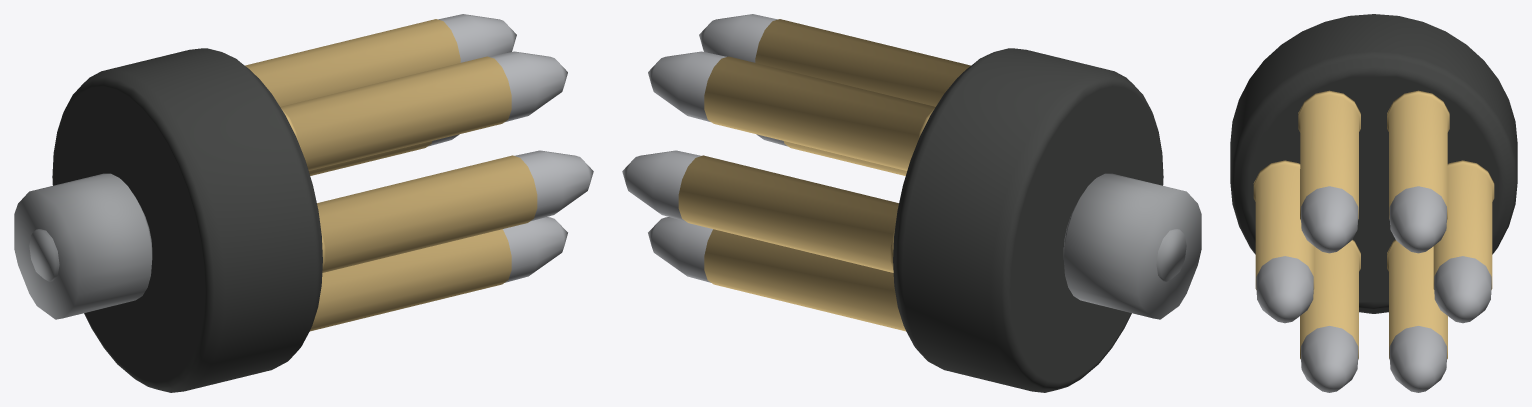
File: speedloader.glb
The picture shows the model from 3 angles, left to right: view 1: azimuth 30°, elevation 25°; view 2: azimuth 150°, elevation 25°; view 3: azimuth 270°, elevation 25°; orthographic projection. The views are drawn at different scales.
Parts seen in each view (by area): view 1: body-polymer, round3, round2, knob-steel, rounds-lead, round4, round1, body-steel, round0; view 2: body-polymer, round0, round1, knob-steel, rounds-lead, round5, round2, body-steel, round3; view 3: body-polymer, rounds-lead, round1, round2, round0, round3, round4, round5.
Part boxes in pixels (box(x1,y1,x2,y2)): body-polymer: box(52, 48, 322, 392); round3: box(317, 155, 537, 272); round2: box(280, 56, 511, 170); knob-steel: box(14, 173, 152, 319); rounds-lead: box(428, 14, 593, 282); round4: box(309, 229, 511, 331); round1: box(245, 19, 460, 106); body-steel: box(29, 229, 59, 281); round0: box(309, 141, 432, 175); body-polymer: box(893, 48, 1163, 392); round0: box(678, 155, 898, 272); round1: box(704, 56, 935, 170); knob-steel: box(1063, 173, 1201, 319); rounds-lead: box(622, 14, 787, 282); round5: box(704, 229, 906, 331); round2: box(755, 19, 970, 106); body-steel: box(1156, 229, 1186, 281); round3: box(783, 141, 906, 175); body-polymer: box(1230, 14, 1517, 313); rounds-lead: box(1256, 186, 1491, 392); round1: box(1387, 90, 1449, 219); round2: box(1298, 90, 1360, 219); round0: box(1433, 160, 1494, 289); round3: box(1253, 160, 1314, 289); round4: box(1300, 240, 1360, 359); round5: box(1387, 240, 1447, 359).
Size of the model in its own units: 0.075 by 0.043 by 0.043.
